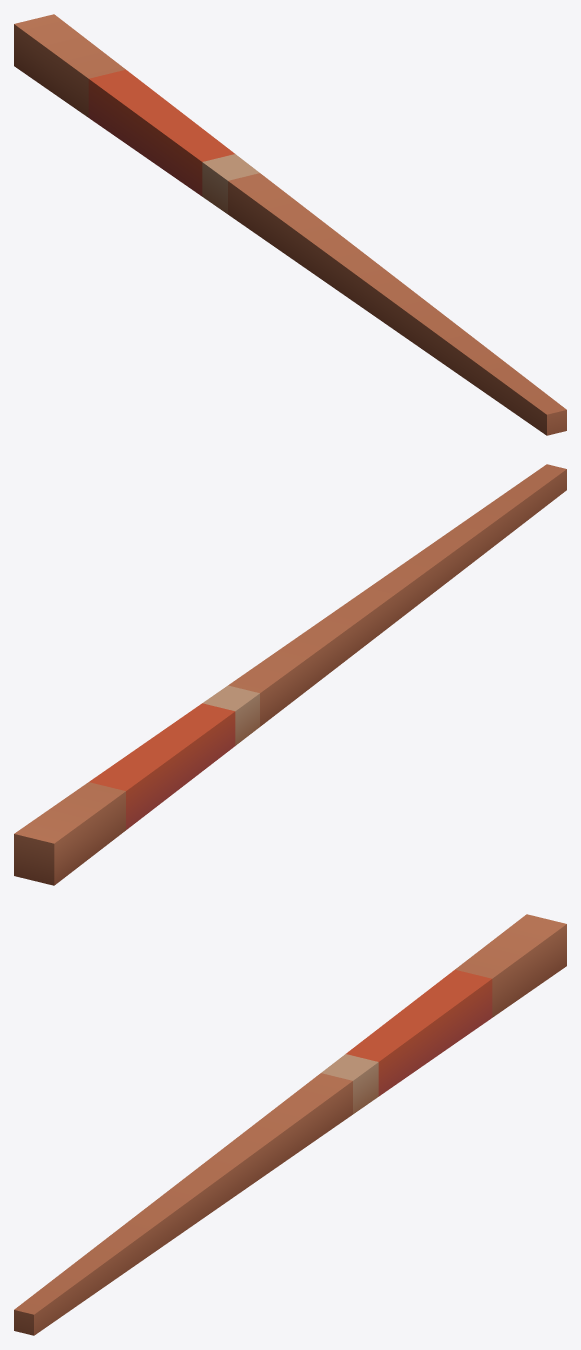
The model's file is chopstic-decorative.glb.
3 views of the same model, one above another, from view 1: azimuth 30°, elevation 25°; view 2: azimuth 150°, elevation 25°; view 3: azimuth 330°, elevation 25° (orthographic).
Visible parts, largest first — view 1: chopstic-decorative; view 2: chopstic-decorative; view 3: chopstic-decorative.
Boxes of the visible parts, <box> form: chopstic-decorative: <box>14,14,566,435</box>; chopstic-decorative: <box>14,464,566,885</box>; chopstic-decorative: <box>14,914,566,1335</box>.
Size of the model in its own units: 0.02 by 0.02 by 0.45.
